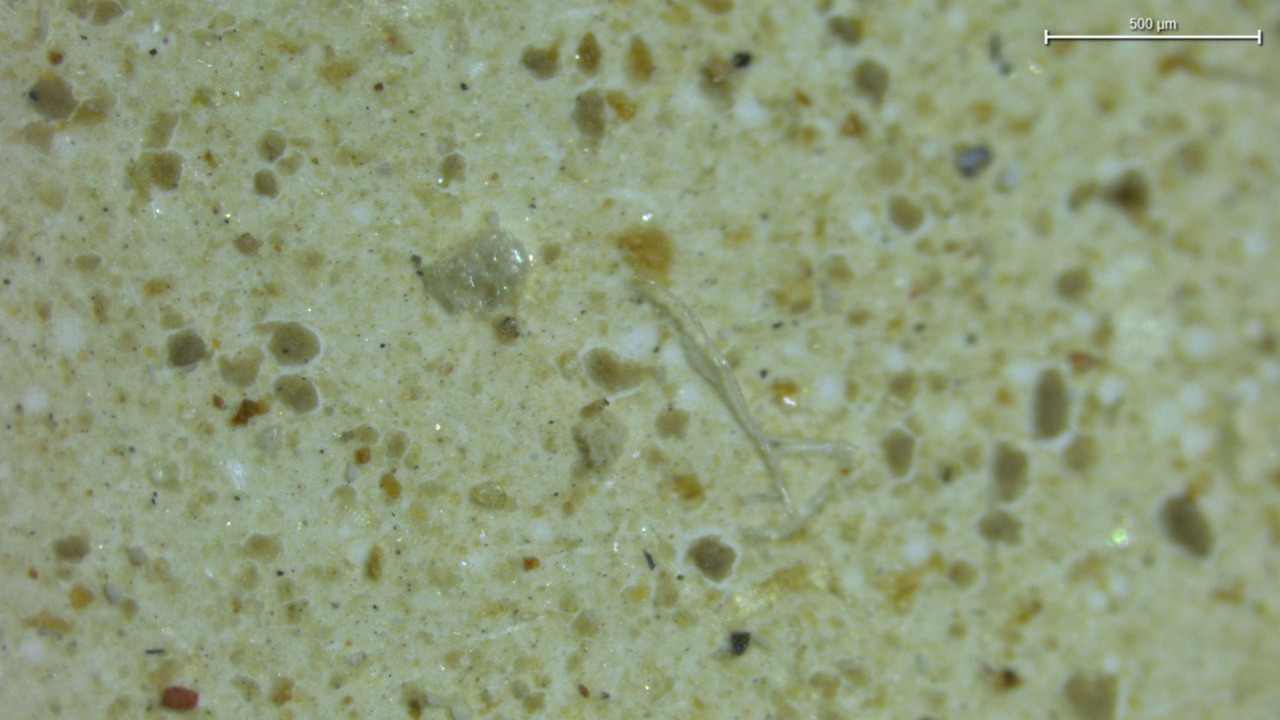microplastic_fragment: (417, 227, 531, 315), (571, 399, 626, 473)
